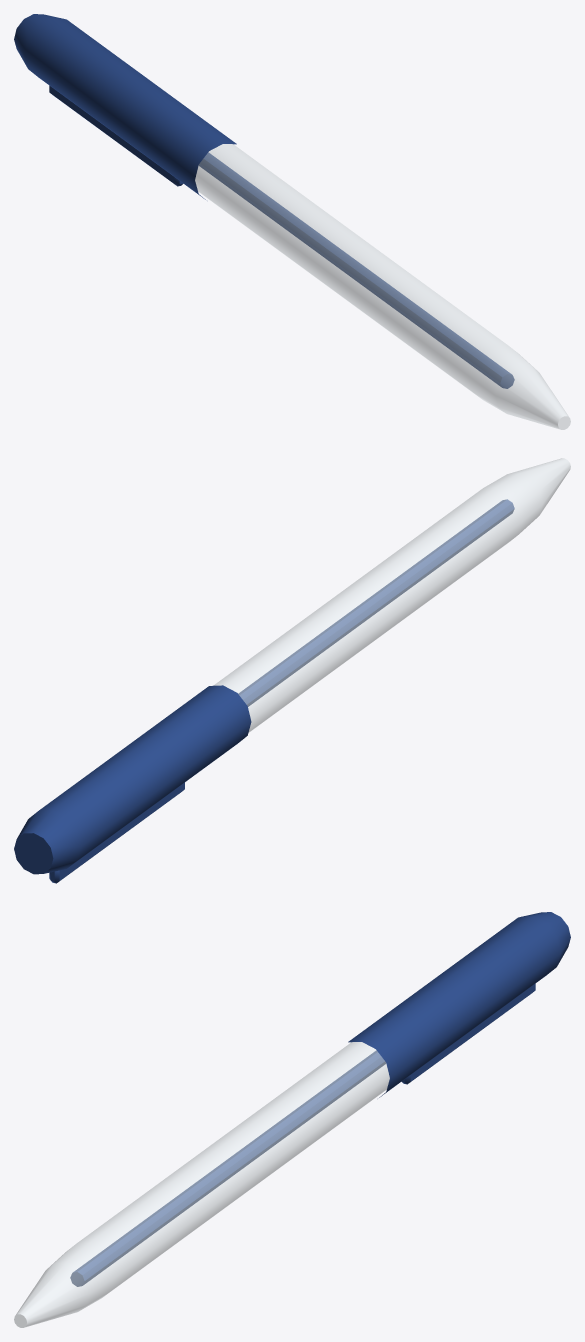
Rendered from pen.glb.
3 views of the same model, one above another, from view 1: azimuth 30°, elevation 25°; view 2: azimuth 150°, elevation 25°; view 3: azimuth 330°, elevation 25° (orthographic).
Visible parts, largest first — view 1: pen; view 2: pen; view 3: pen.
Boxes of the visible parts, left/top/right/bottom form: pen: left=14, top=14, right=570, bottom=429; pen: left=14, top=458, right=570, bottom=883; pen: left=14, top=912, right=570, bottom=1327.
Bounding box in the file's own units: 0.0086 × 0.0108 × 0.14.
